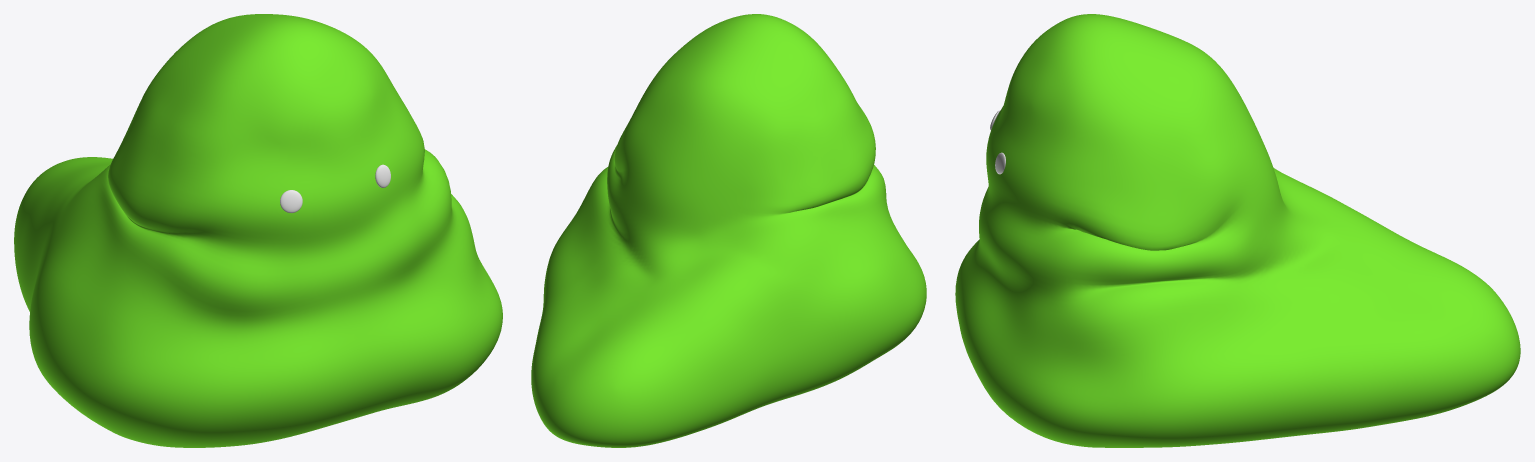
The model's file is SJ_Model_Final_second_phase.fbx.
3 renders of one model, left to right at view 1: azimuth 30°, elevation 25°; view 2: azimuth 150°, elevation 25°; view 3: azimuth 270°, elevation 25°, orthographic. The views are drawn at different scales.
Visible parts, largest first — view 1: slime; view 2: slime; view 3: slime.
Part boxes in pixels (left/top/right/bottom): slime: left=14, top=14, right=502, bottom=447; slime: left=531, top=14, right=926, bottom=447; slime: left=955, top=14, right=1520, bottom=447.
Size of the model in its own units: 26.27 by 22.9 by 32.47.
